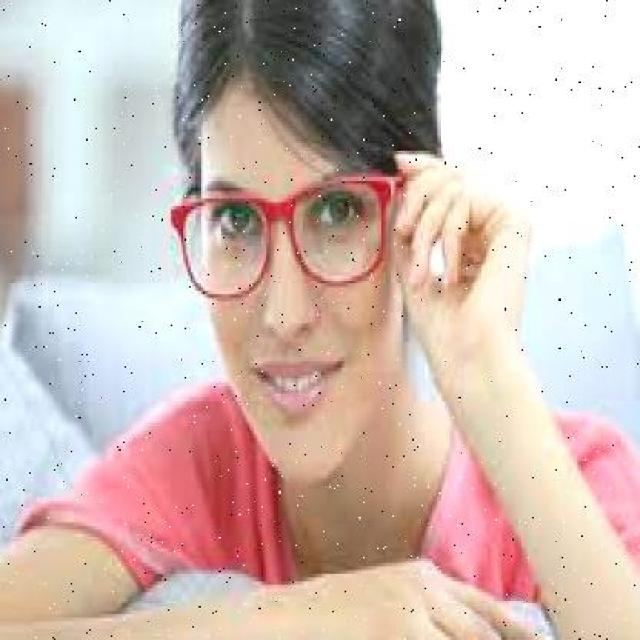glasses: (166, 172, 397, 291)
